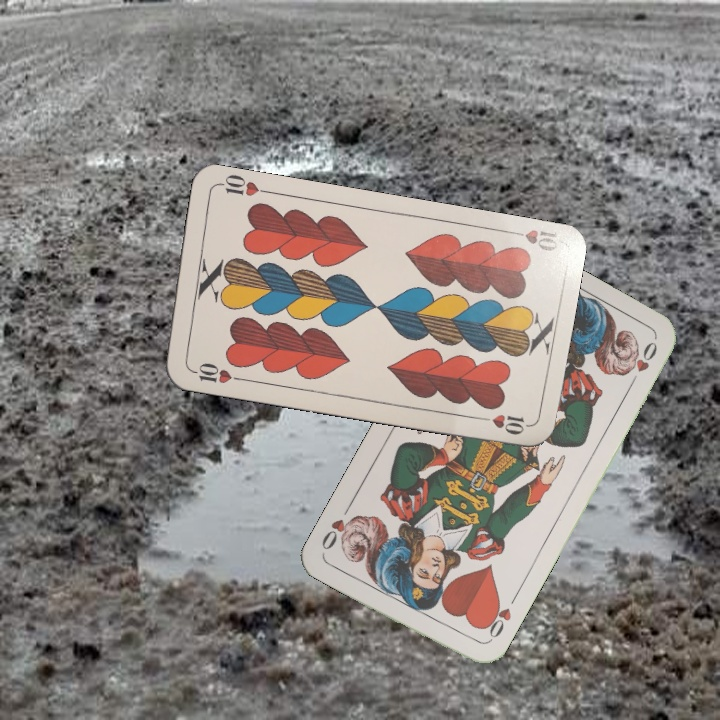H10: (503, 225, 560, 255), (185, 358, 244, 386)
HO: (478, 592, 519, 646)
